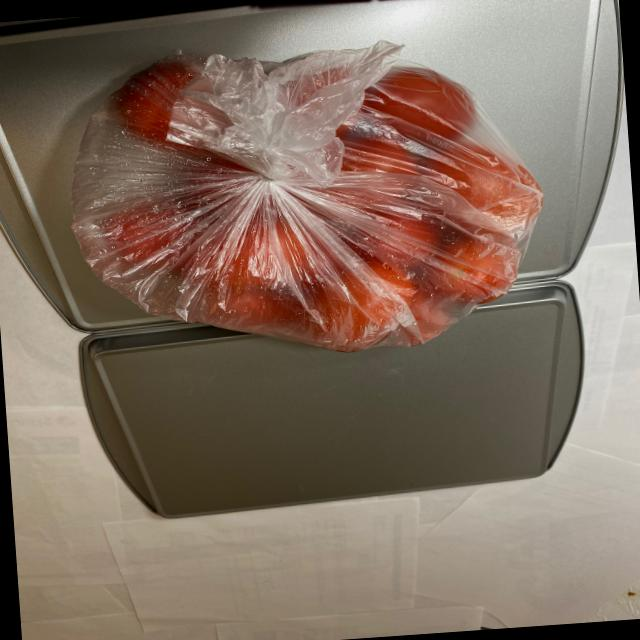tomato: (67, 32, 549, 369)
